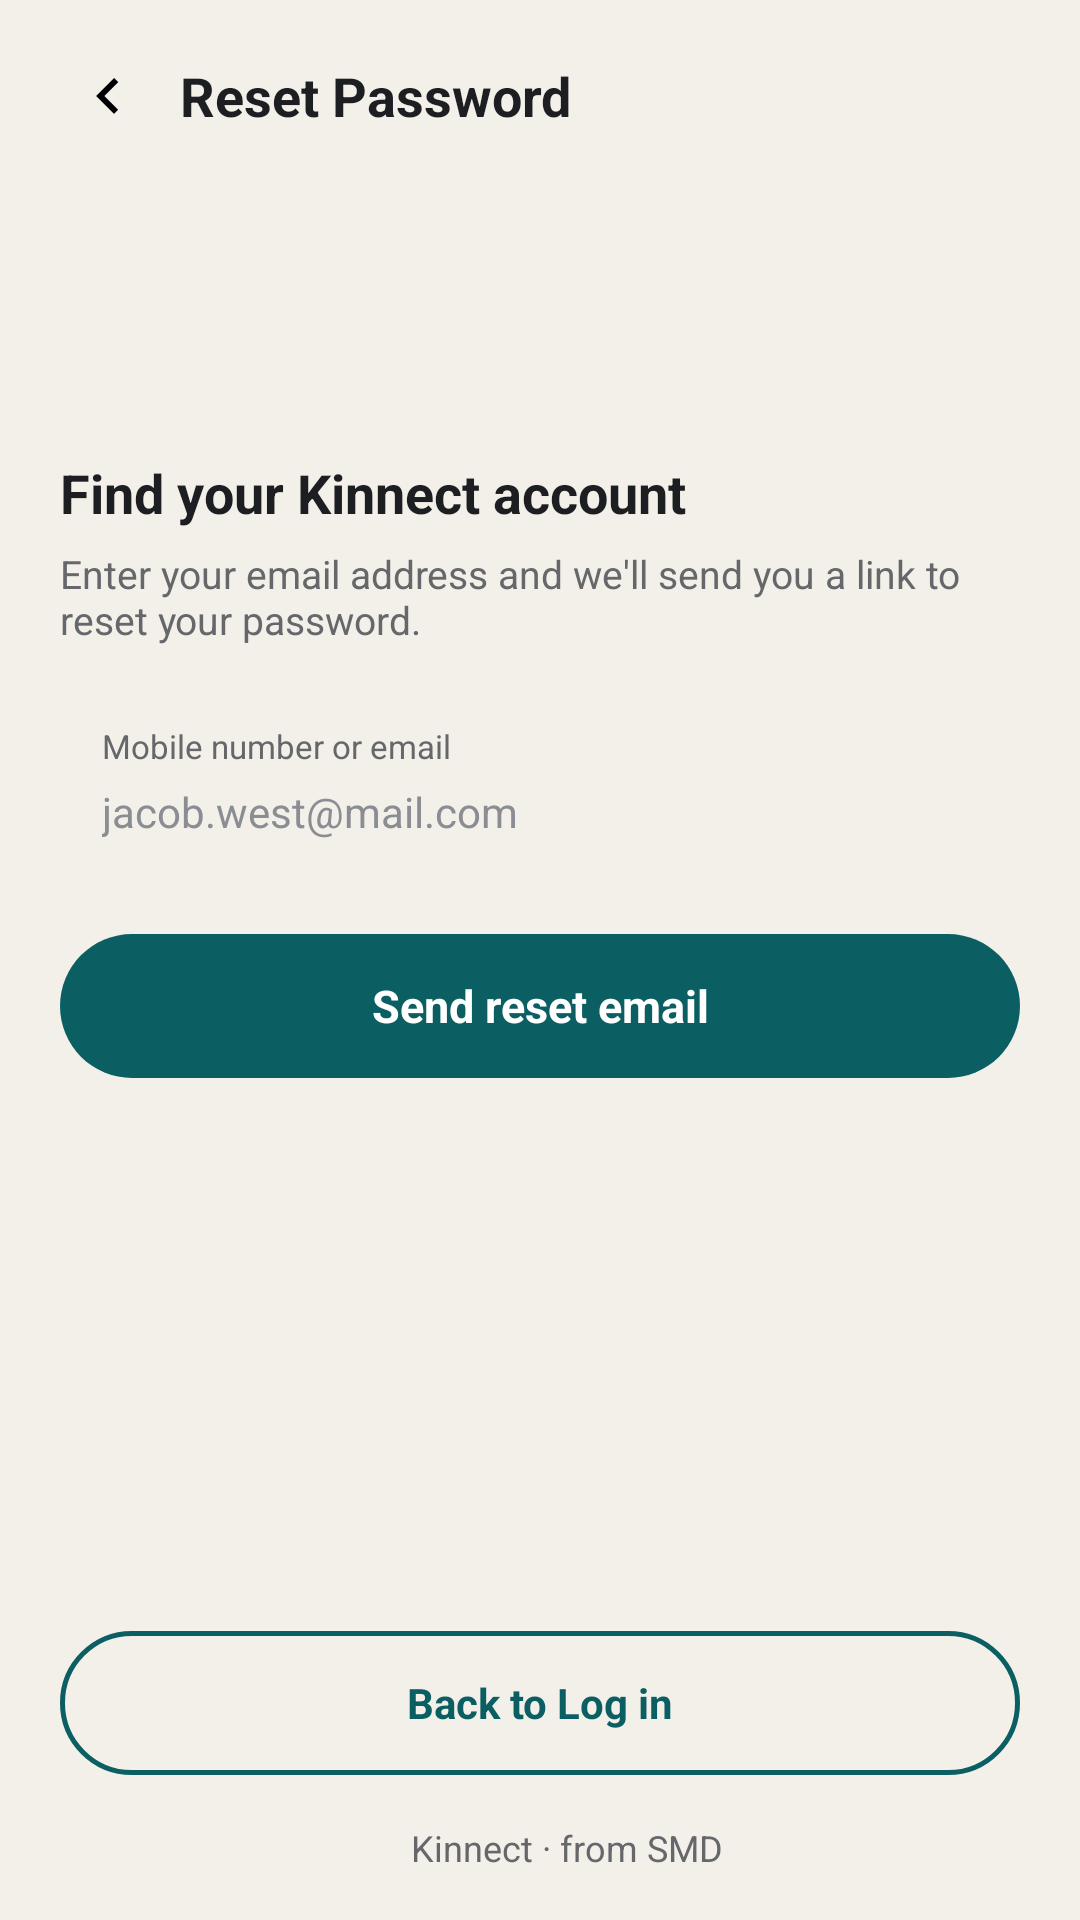

Icon click points for this 1080px x 1920px phone screenshot, format (x,y):
Back: (107,96)
